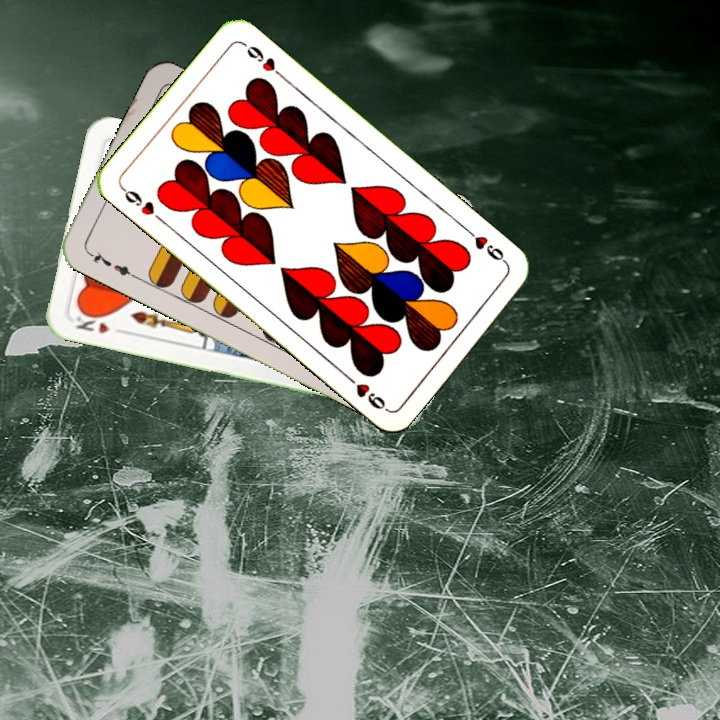E7: (83, 247, 138, 281)
H9: (461, 224, 511, 267), (117, 183, 167, 225)
HK: (72, 306, 128, 337)
